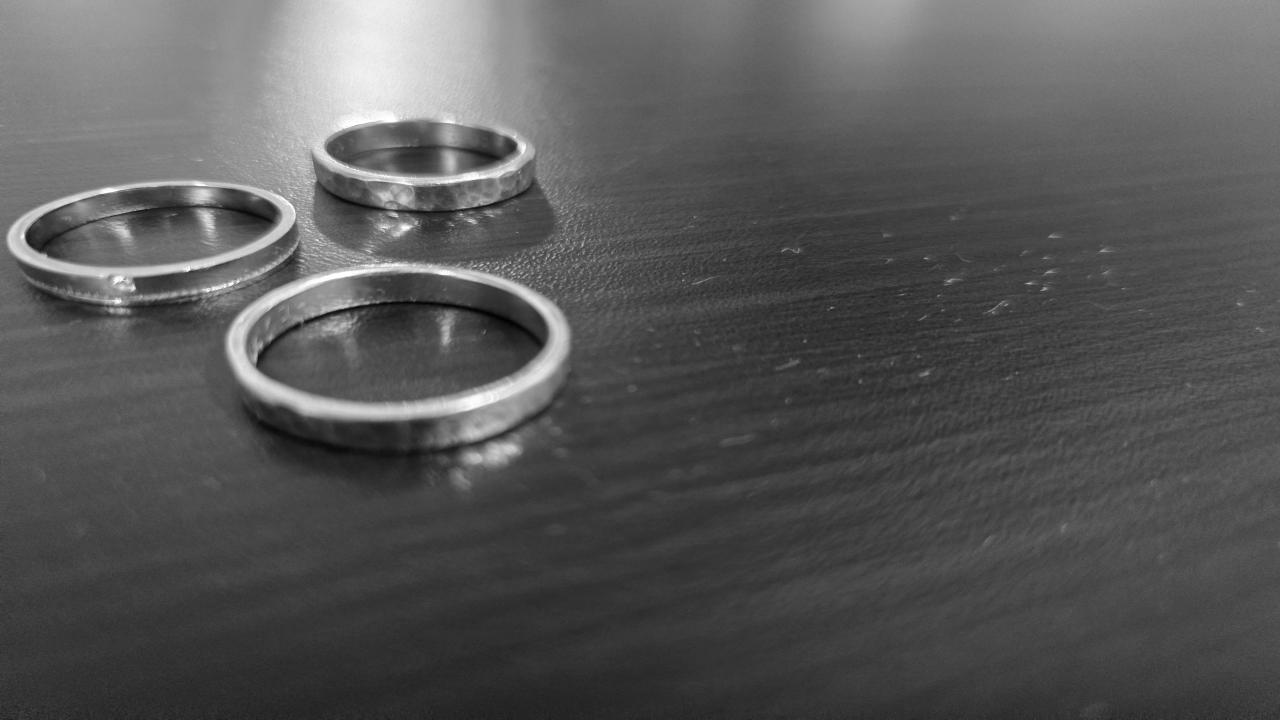ring: (225, 264, 578, 452), (5, 178, 305, 307), (308, 116, 542, 216)
